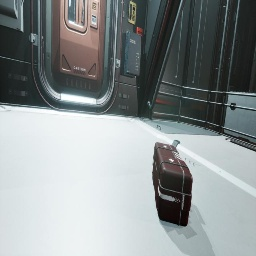EmergencyPhone ,: (127, 0, 136, 25)
FireAlarm ,: (136, 27, 143, 45)
FirstAidBox ,: (152, 142, 193, 226)
SafetySwitchPanel ,: (0, 0, 24, 33)
